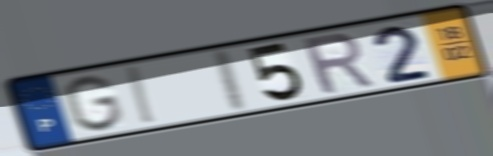2: (367, 21, 438, 89)
5: (245, 40, 304, 103)
G: (60, 73, 126, 133)
I: (214, 46, 253, 116), (125, 63, 160, 128)
R: (297, 30, 378, 98)
